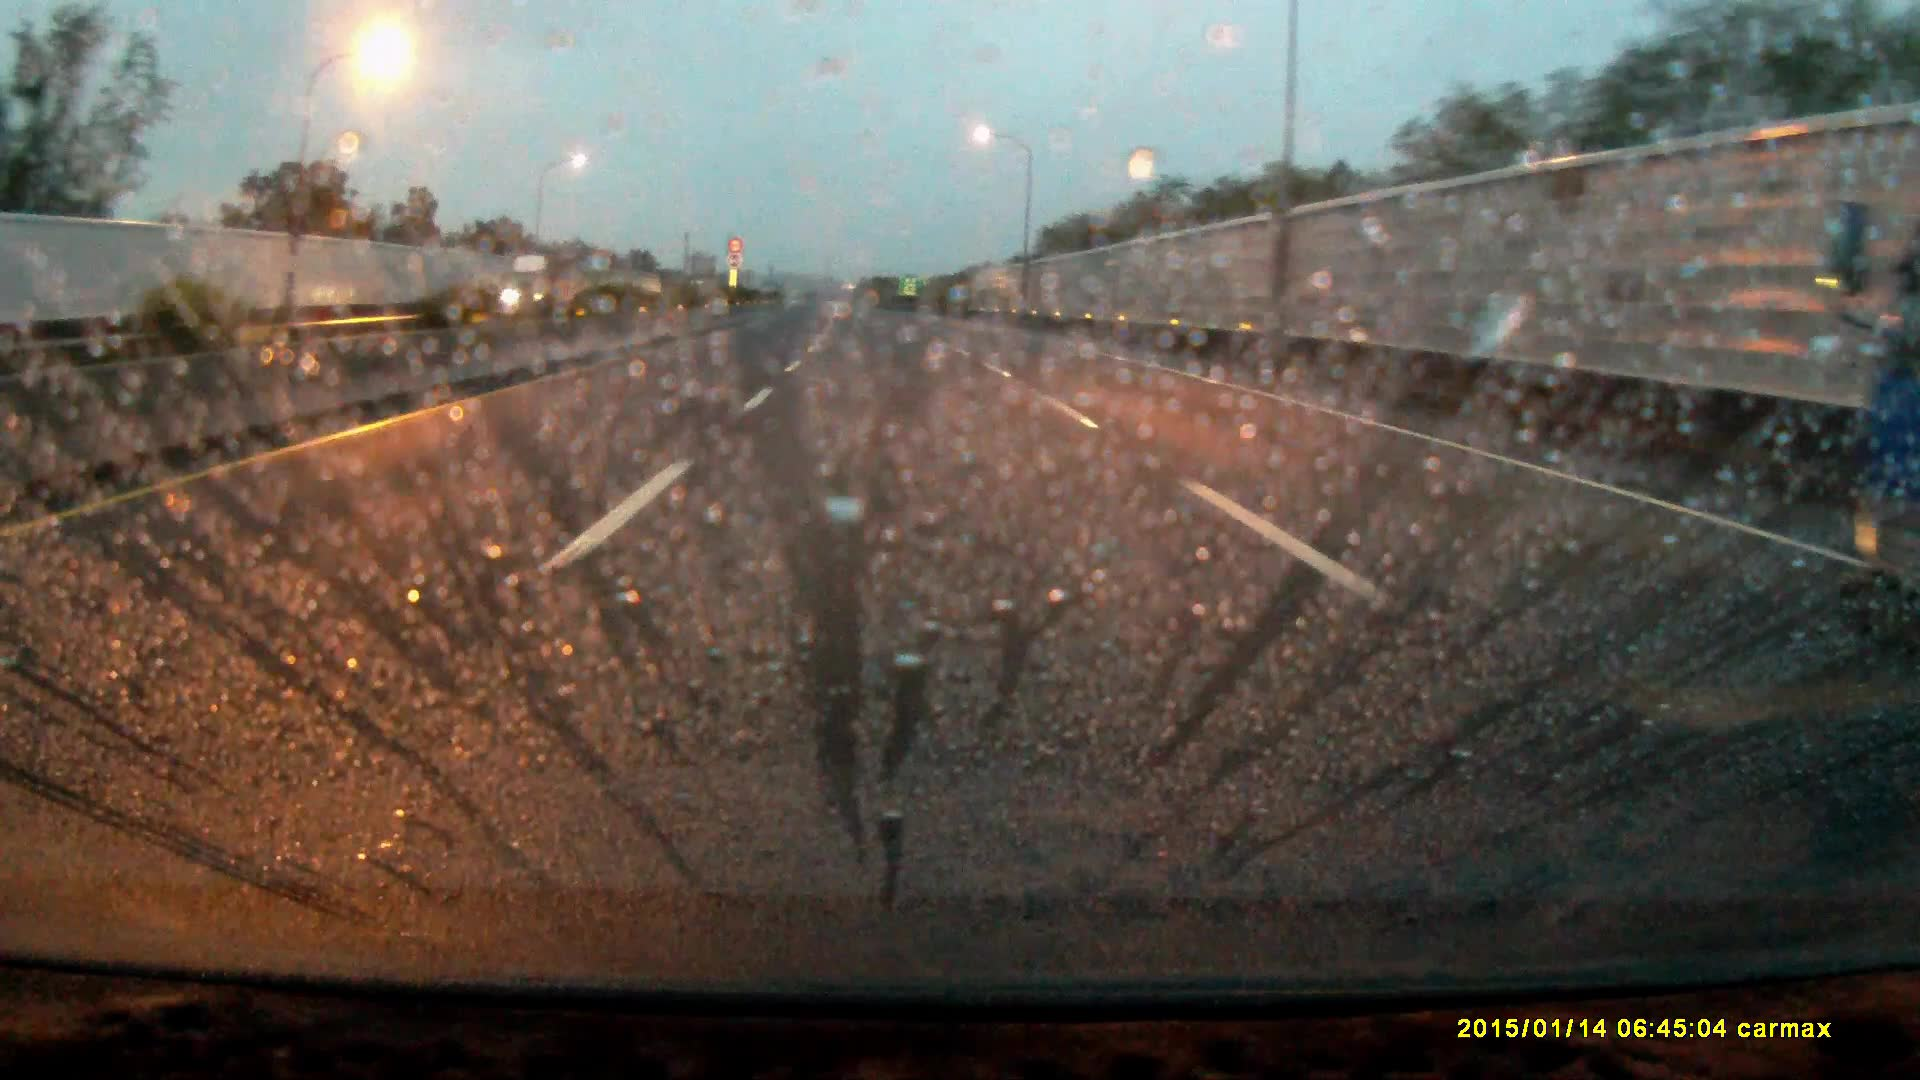vehicle: (502, 252, 564, 311)
